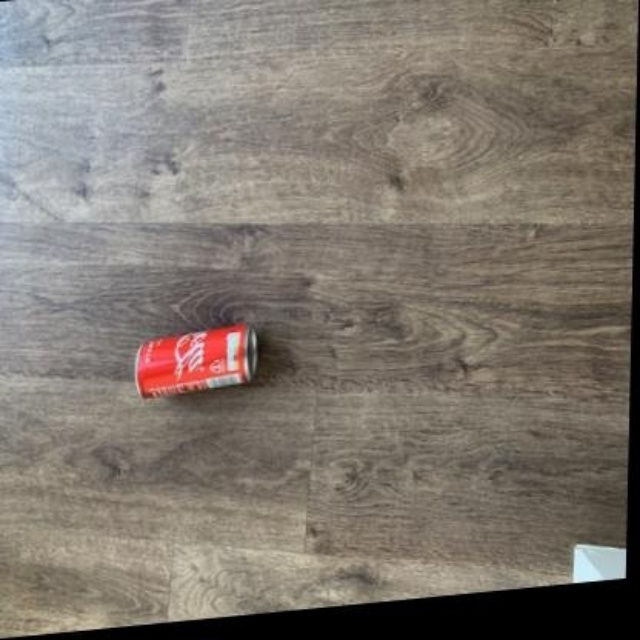trash: (135, 325, 255, 397)
